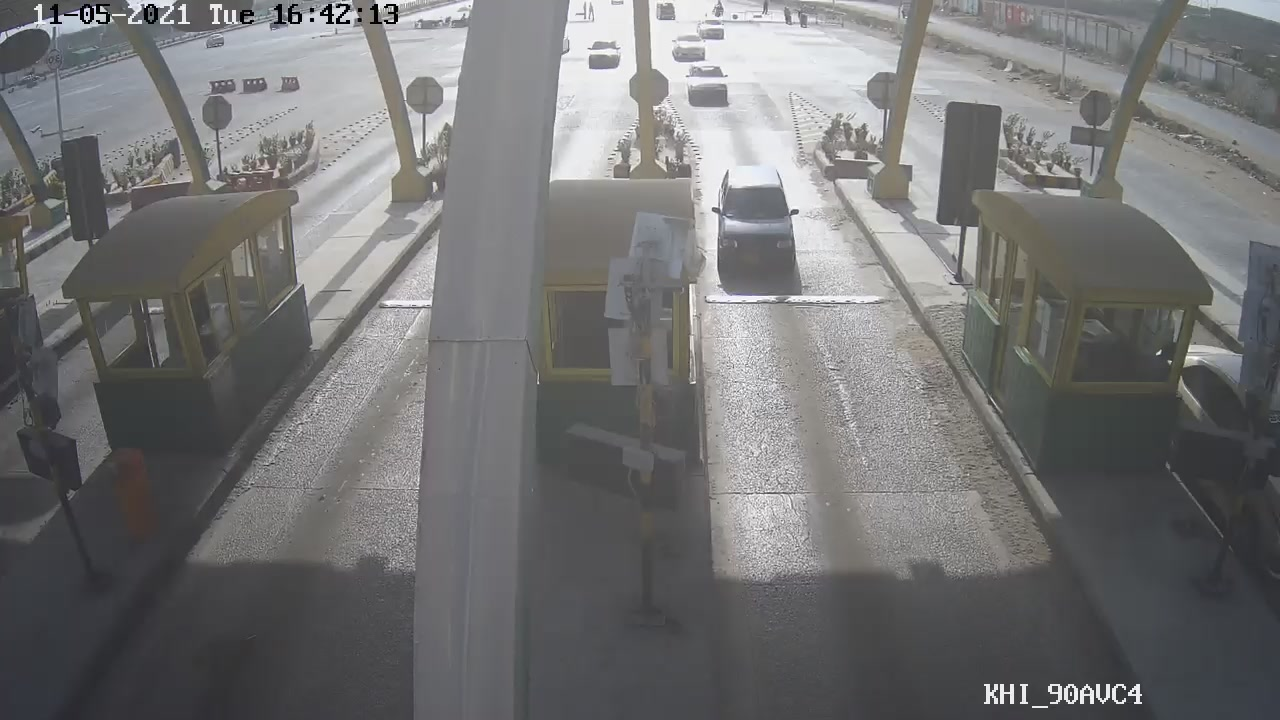F1: (704, 157, 813, 284)
